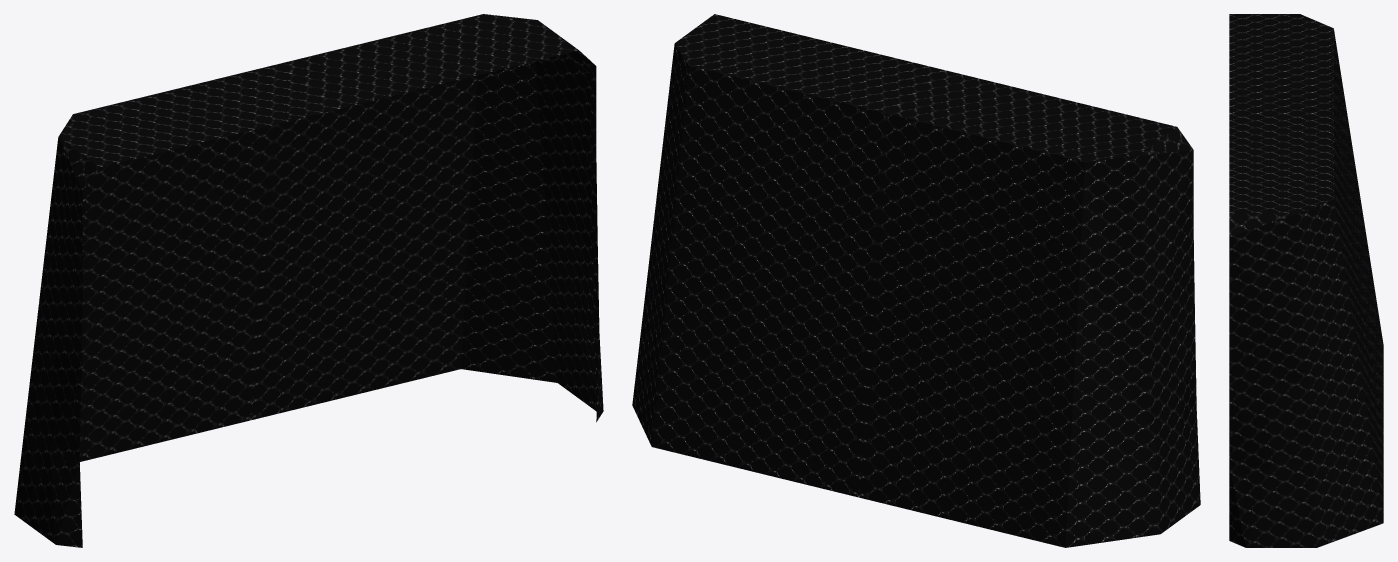
File: net-doublesided.obj
The picture shows the model from 3 angles, left to right: view 1: azimuth 30°, elevation 25°; view 2: azimuth 150°, elevation 25°; view 3: azimuth 270°, elevation 25°; orthographic projection. The views are drawn at different scales.
Parts seen in each view (by area): view 1: Cube.001, Cube; view 2: Cube; view 3: Cube.
Boxes of the visible parts, bbox=[...] form: Cube.001: bbox=[79, 53, 597, 461]; Cube: bbox=[14, 14, 603, 547]; Cube: bbox=[632, 14, 1200, 547]; Cube: bbox=[1229, 14, 1383, 547].
Bounding box in the file's own units: 2.28 × 1.5 × 0.654.
